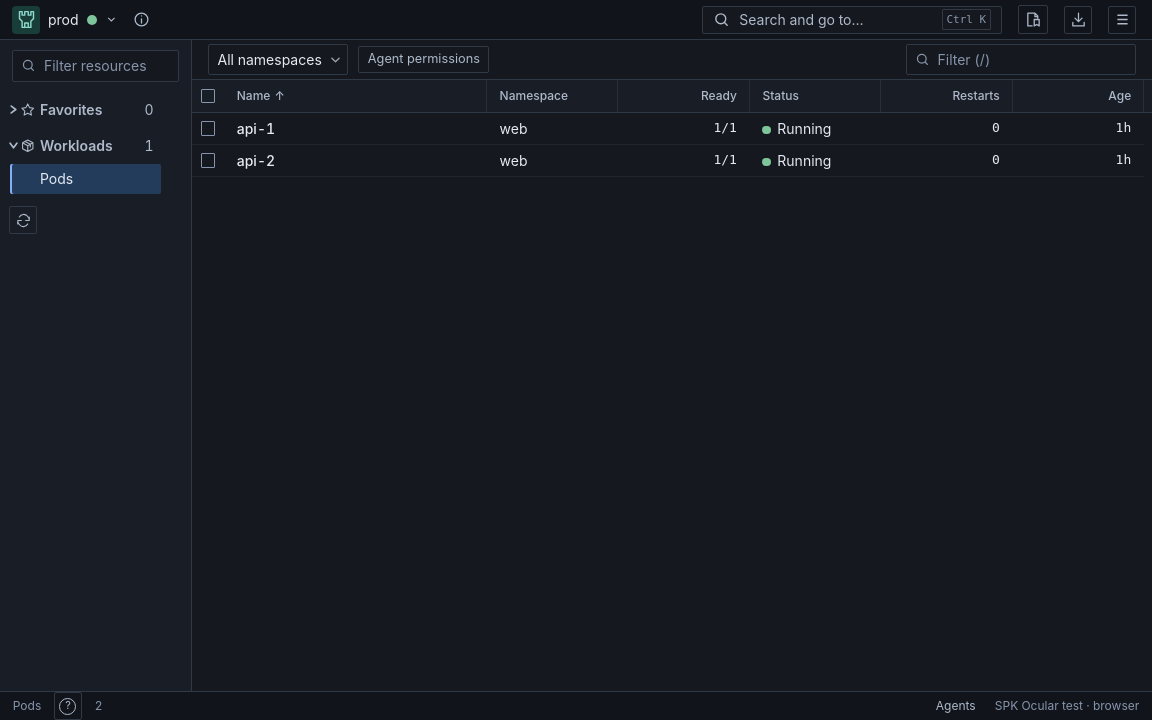
Test: terminal tabs › a log tab of another target keeps receiving lines
Click the text "api-1". click: [256, 128]
box: [237,120,275,137]
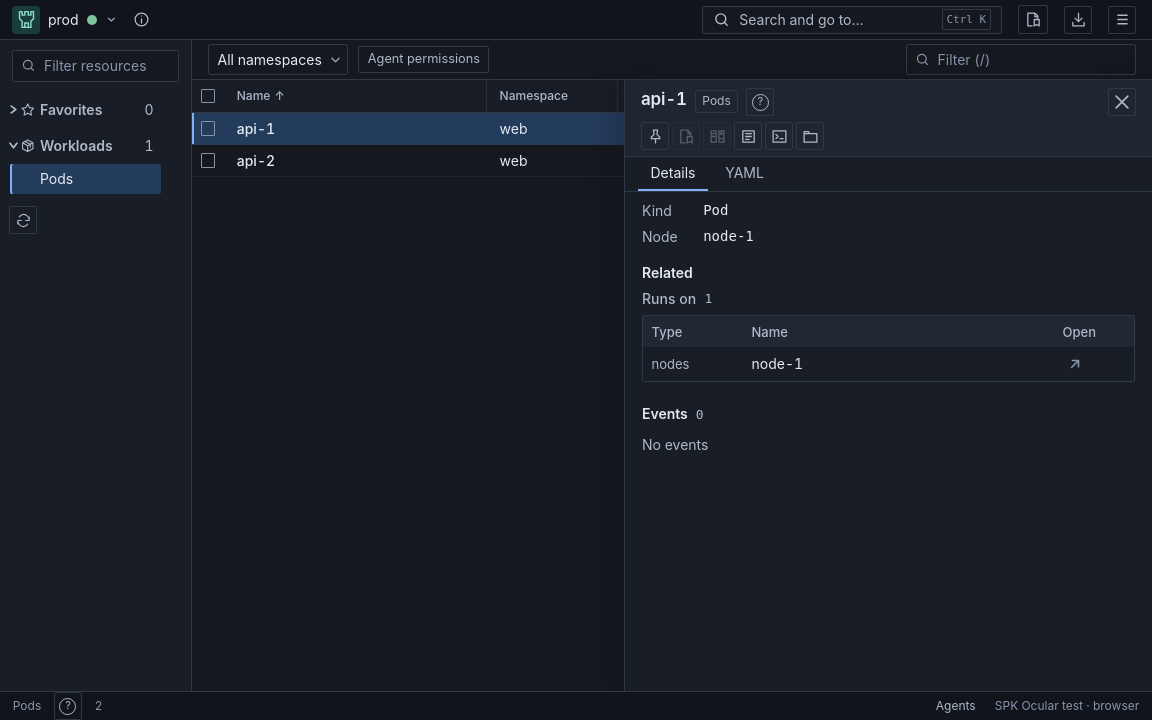
Type keys "l"
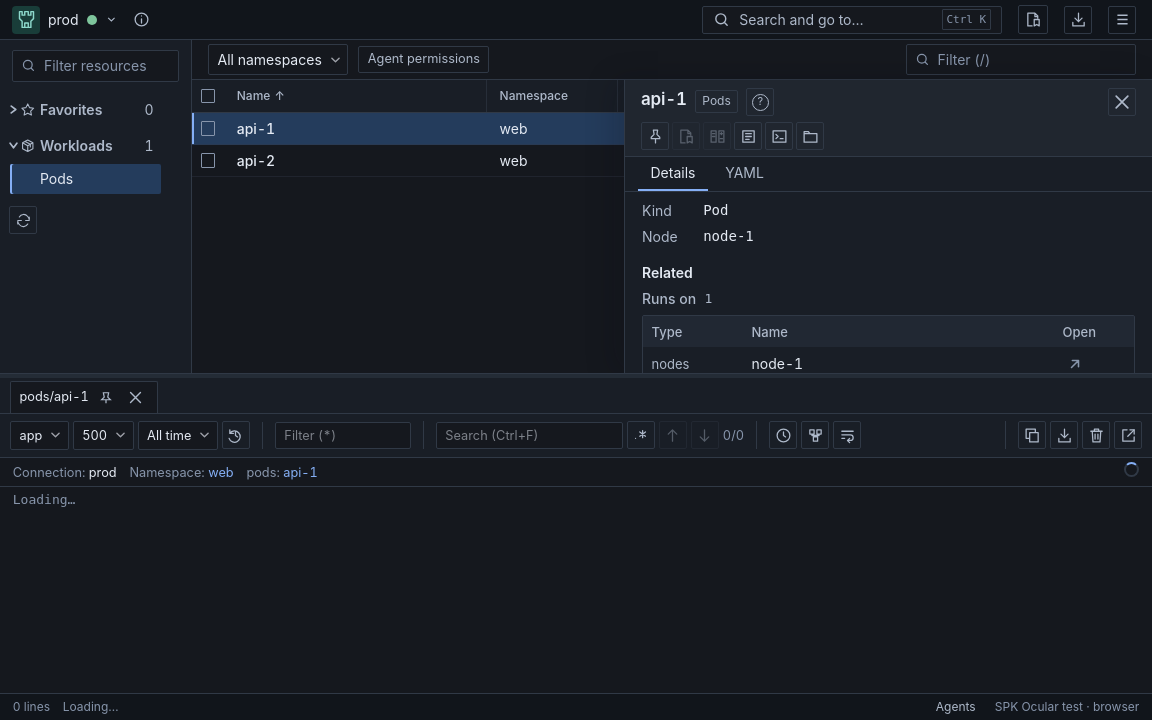
Click the button with aria-label "Connections". click: [83, 20]
box: [40,4,125,34]
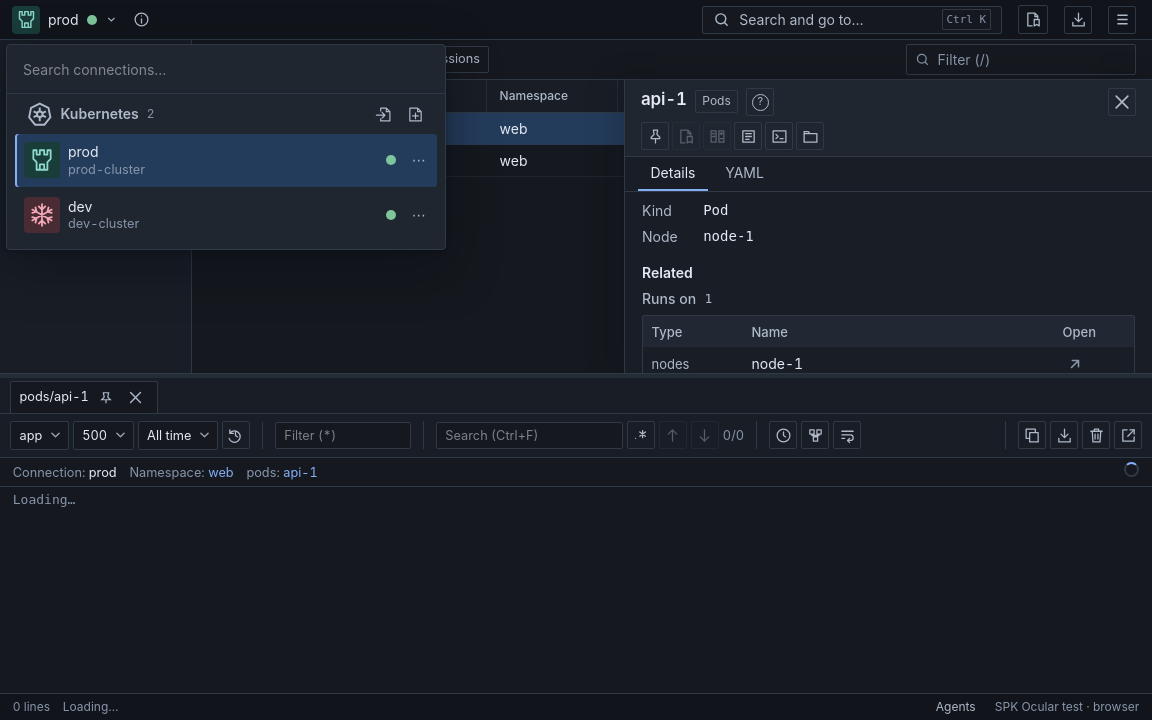
Click the button "dev dev-cluster". click: [104, 224]
box: [59,189,405,241]
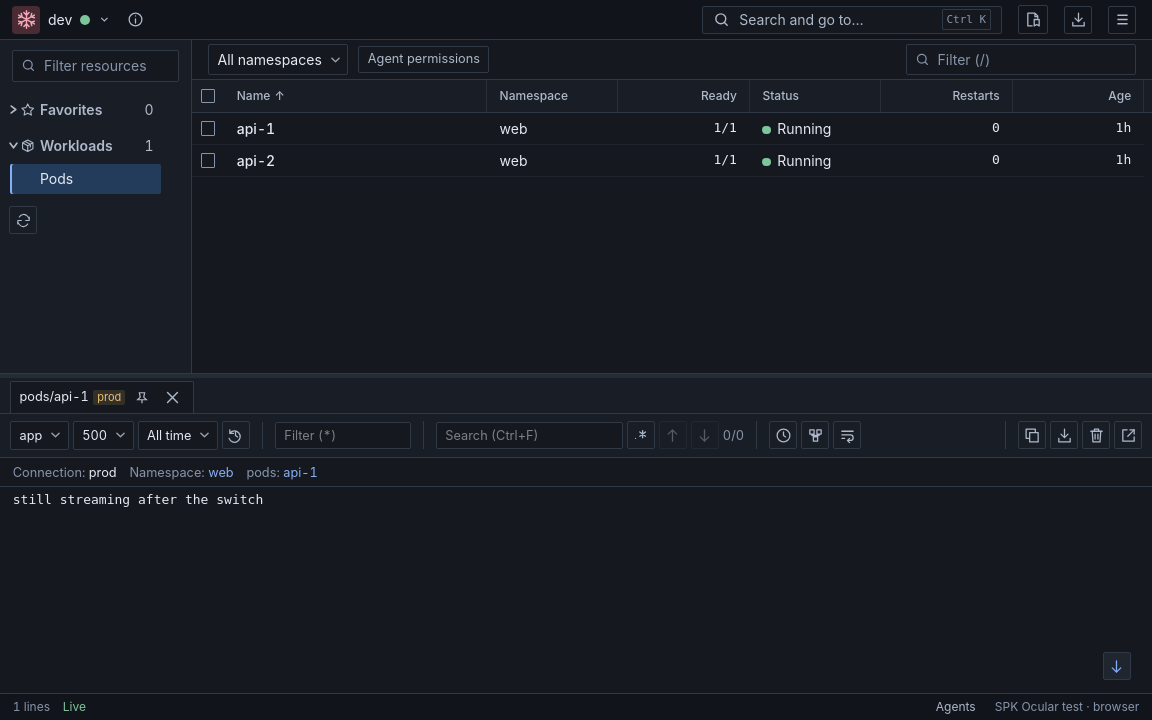
Now the 1st text "prod" is shown, box [93,390,125,405]
Now the text "still streaming after the switch" is shown, box [13,492,263,507]
